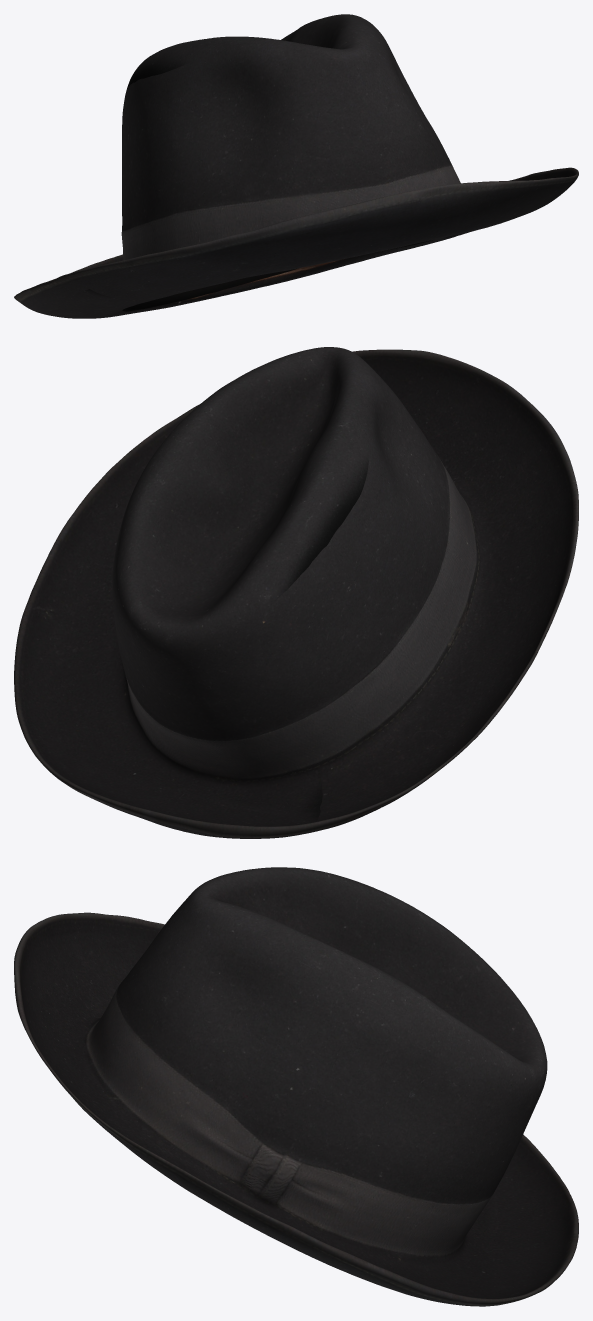
File: hatDraco.glb
3 renders of one model, top to bottom at view 1: azimuth 30°, elevation 25°; view 2: azimuth 150°, elevation 25°; view 3: azimuth 270°, elevation 25°, orthographic. The views are drawn at different scales.
Parts seen in each view (by area): view 1: Kapelusz_Karola_Wojtyly_defaultMat_0; view 2: Kapelusz_Karola_Wojtyly_defaultMat_0; view 3: Kapelusz_Karola_Wojtyly_defaultMat_0.
Part boxes in pixels (x1=…): Kapelusz_Karola_Wojtyly_defaultMat_0: x1=14, y1=14, x2=578, y2=318; Kapelusz_Karola_Wojtyly_defaultMat_0: x1=14, y1=347, x2=578, y2=838; Kapelusz_Karola_Wojtyly_defaultMat_0: x1=14, y1=867, x2=578, y2=1306.
Bounding box in the file's own units: 383 × 269 × 378.
1 material, 1 textured.
